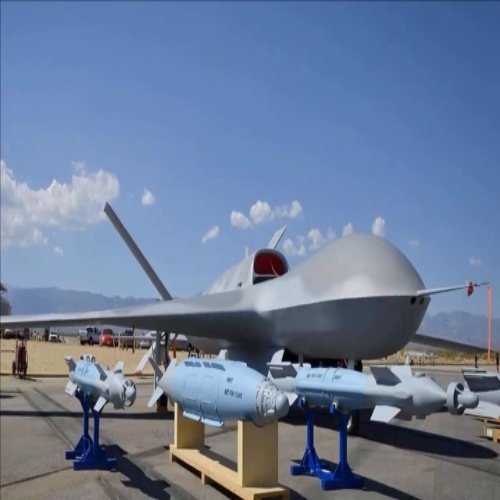uav909: (1, 196, 489, 365)
